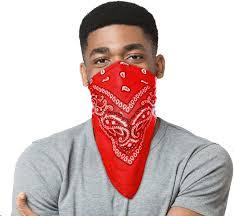scarf-kerchief: (84, 56, 166, 203)
